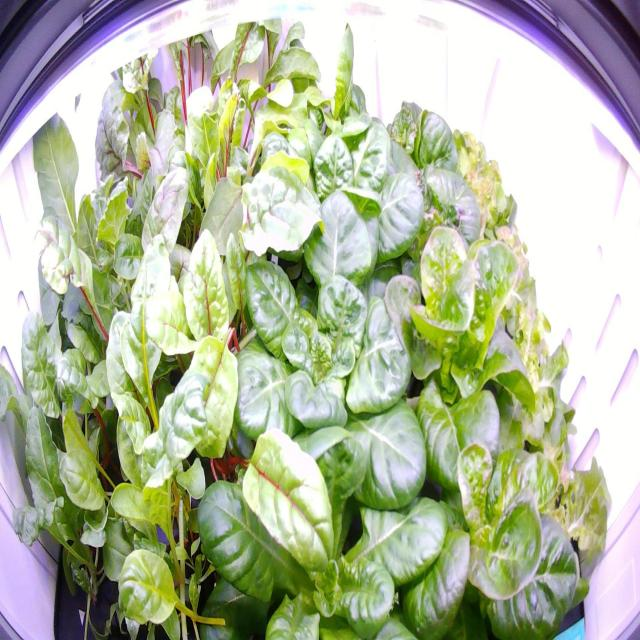Ready: (368, 368, 592, 636), (354, 209, 545, 462), (351, 146, 504, 301), (343, 68, 481, 218)
young: (178, 356, 474, 638), (208, 173, 435, 458), (258, 103, 428, 291), (259, 17, 396, 172)
